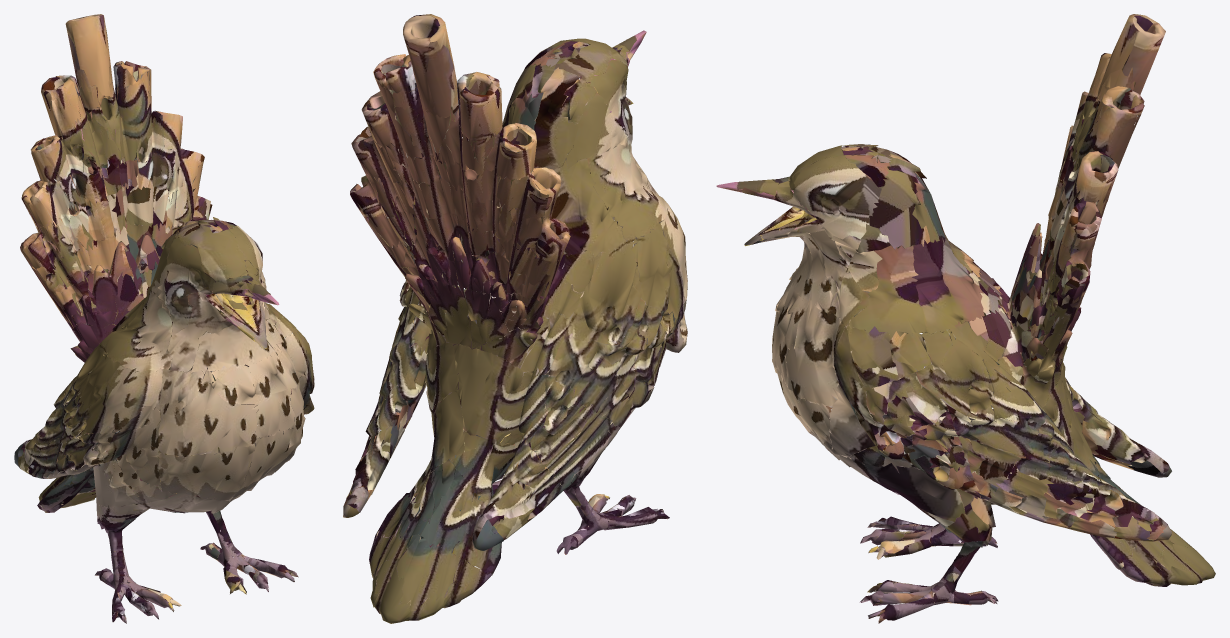
3 renders of one model, left to right at view 1: azimuth 30°, elevation 25°; view 2: azimuth 150°, elevation 25°; view 3: azimuth 270°, elevation 25°, orthographic. The views are drawn at different scales.
Parts seen in each view (by area): view 1: Mesh_0; view 2: Mesh_0; view 3: Mesh_0.
Boxes of the visible parts, x1,y1,x2,y2 form: Mesh_0: (14, 14, 314, 623); Mesh_0: (343, 14, 687, 623); Mesh_0: (716, 14, 1215, 623).
Bounding box in the file's own units: 0.8861 × 1.9 × 1.54.
Materials: 1 (1 with a texture image).
